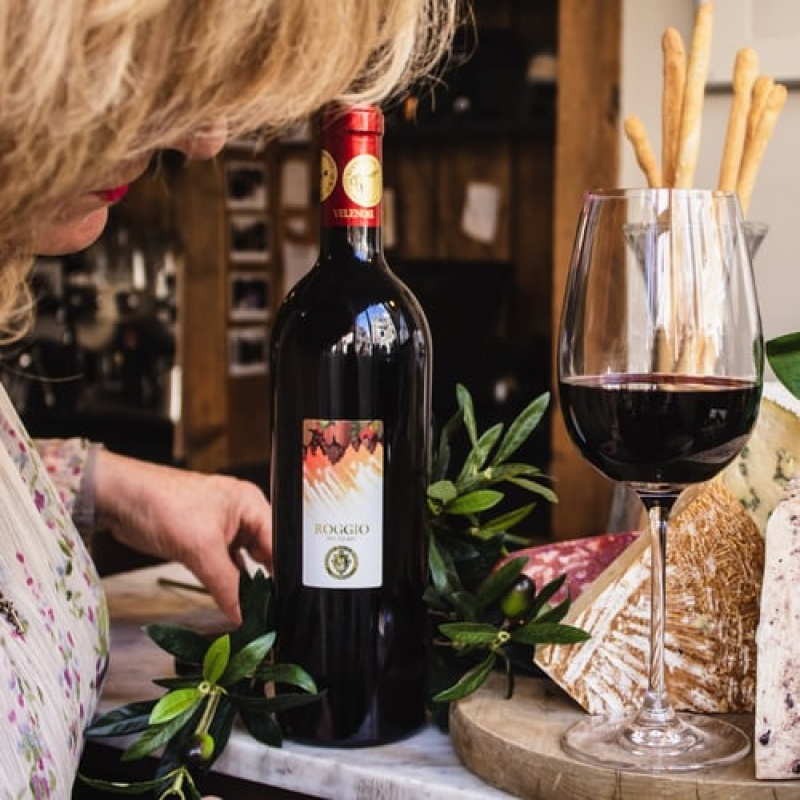wine: (279, 105, 430, 736)
